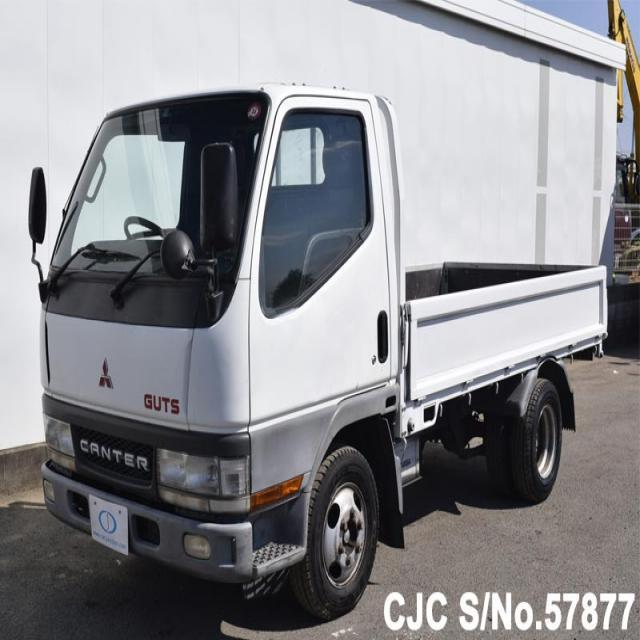truck: (28, 85, 606, 609)
